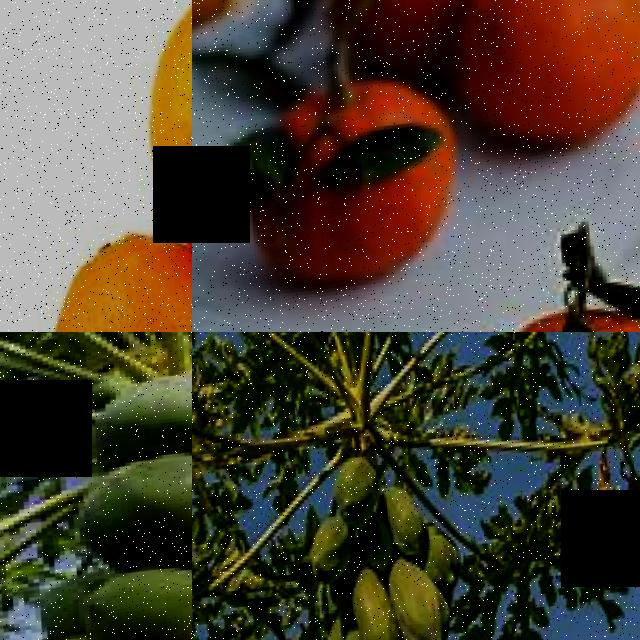orange: (243, 72, 457, 287), (437, 0, 640, 154), (35, 217, 192, 332), (134, 0, 192, 227)
pawpaw: (63, 443, 192, 581), (75, 562, 192, 640), (389, 559, 457, 640), (332, 453, 387, 523), (384, 483, 428, 561), (353, 574, 403, 640), (309, 515, 356, 583)
